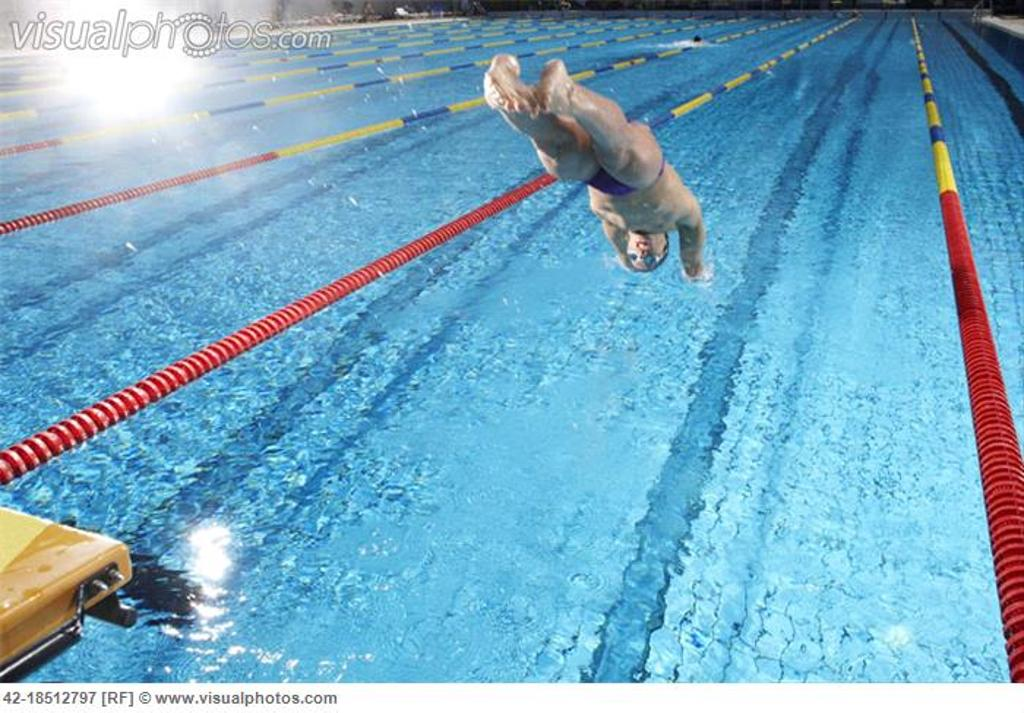face: (625, 237, 664, 271)
